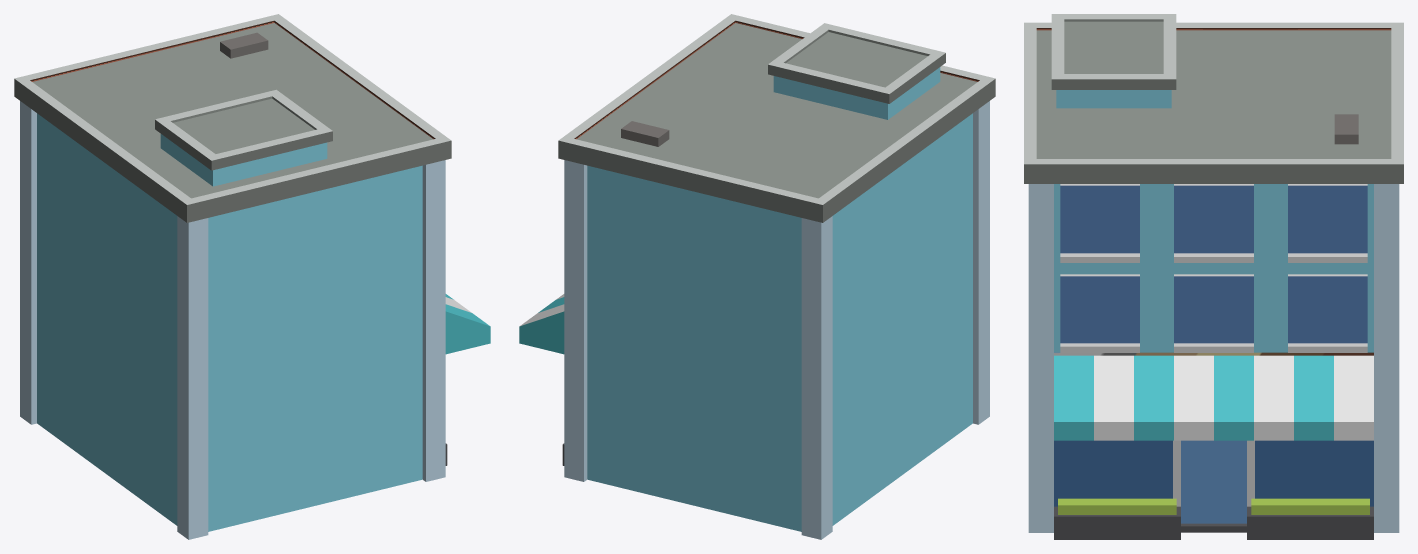
File: city_03.FBX
3 views of the same model, side by side, from view 1: azimuth 30°, elevation 25°; view 2: azimuth 150°, elevation 25°; view 3: azimuth 270°, elevation 25° (orthographic). The views are drawn at different scales.
Parts seen in each view (by area): view 1: shop_classic_mesh; view 2: shop_classic_mesh; view 3: shop_classic_mesh.
Boxes of the visible parts, bbox=[...] form: shop_classic_mesh: bbox=[14, 14, 490, 539]; shop_classic_mesh: bbox=[519, 14, 995, 539]; shop_classic_mesh: bbox=[1024, 14, 1403, 539].
Bounding box in the file's own units: 1665 × 1822 × 1572.
